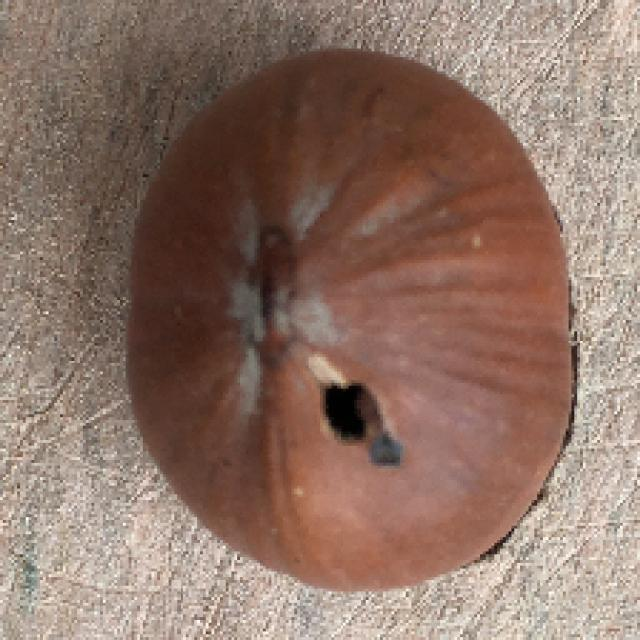damagedHazelnut: (119, 51, 577, 587)
